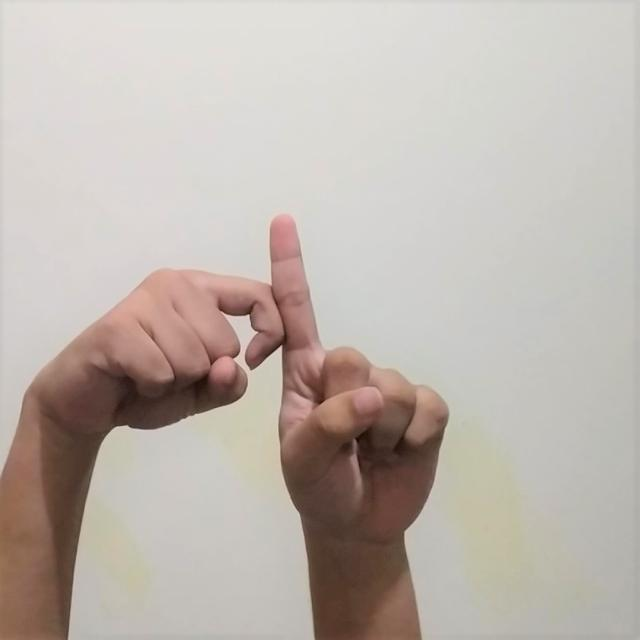K: (24, 202, 456, 548)
